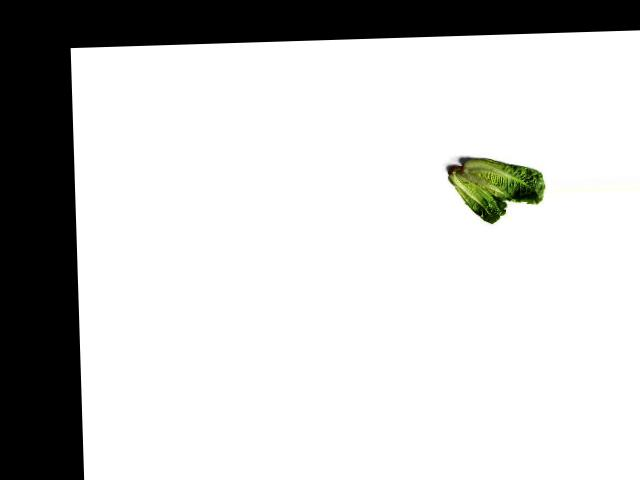lettuce: (443, 162, 507, 225)
